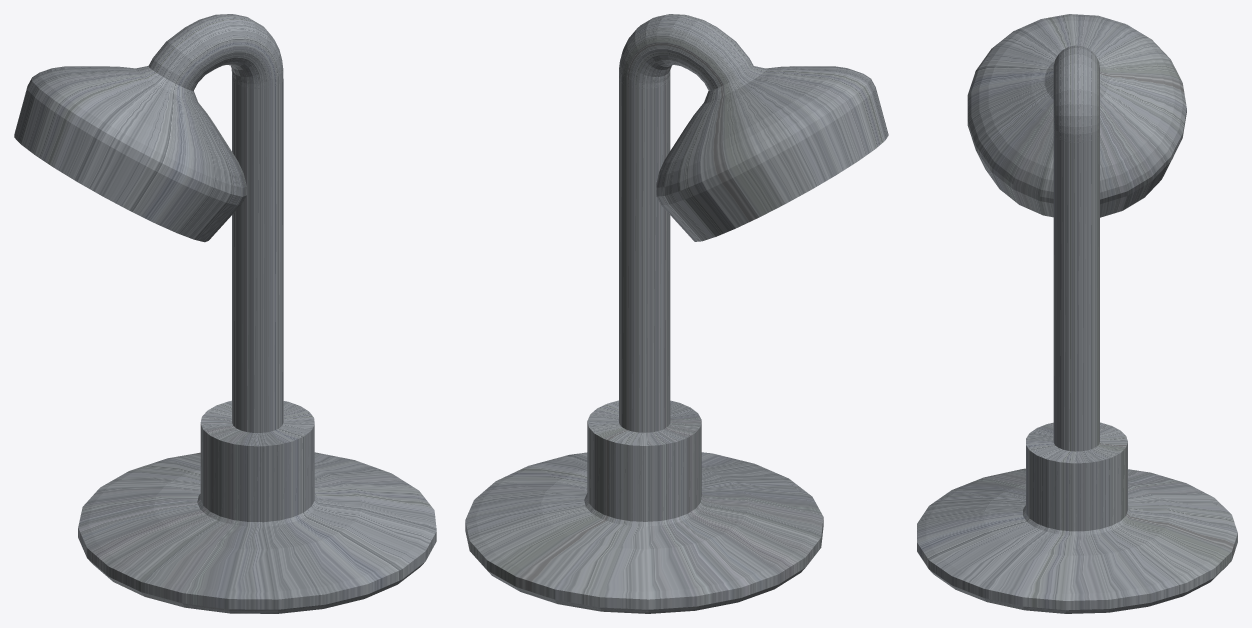
File: flexo.fbx
3 views of the same model, side by side, from view 1: azimuth 30°, elevation 25°; view 2: azimuth 150°, elevation 25°; view 3: azimuth 270°, elevation 25° (orthographic). The views are drawn at different scales.
Visible parts, largest first — view 1: lamp:Mesh; view 2: lamp:Mesh; view 3: lamp:Mesh.
Part boxes in pixels (x1,y1,x2,y2): lamp:Mesh: (14, 14, 436, 613); lamp:Mesh: (465, 14, 888, 613); lamp:Mesh: (917, 14, 1237, 613).
Size of the model in its own units: 1.35 by 1.8 by 1.1.
Materials: 2 (1 with a texture image).
